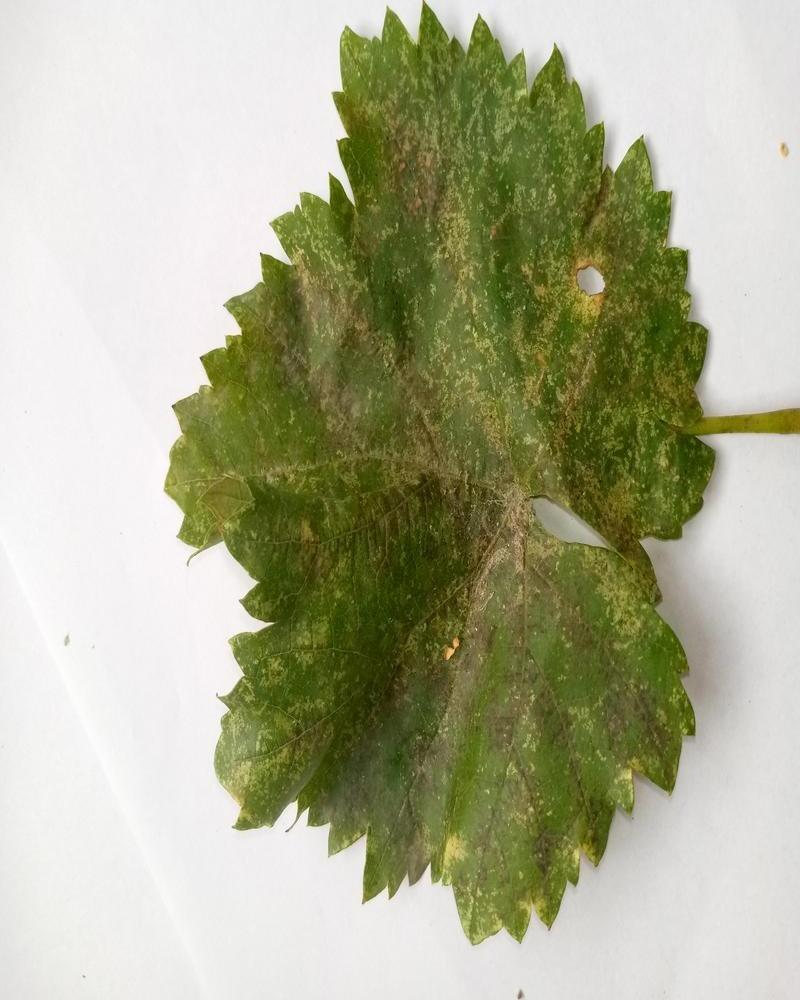Powdery-Mildew: (370, 468, 555, 700), (354, 36, 529, 260), (509, 144, 654, 398), (261, 244, 425, 438), (173, 381, 311, 551), (436, 287, 537, 452), (570, 398, 694, 532), (600, 667, 667, 777), (577, 554, 658, 638), (532, 824, 595, 887), (428, 840, 491, 903)
